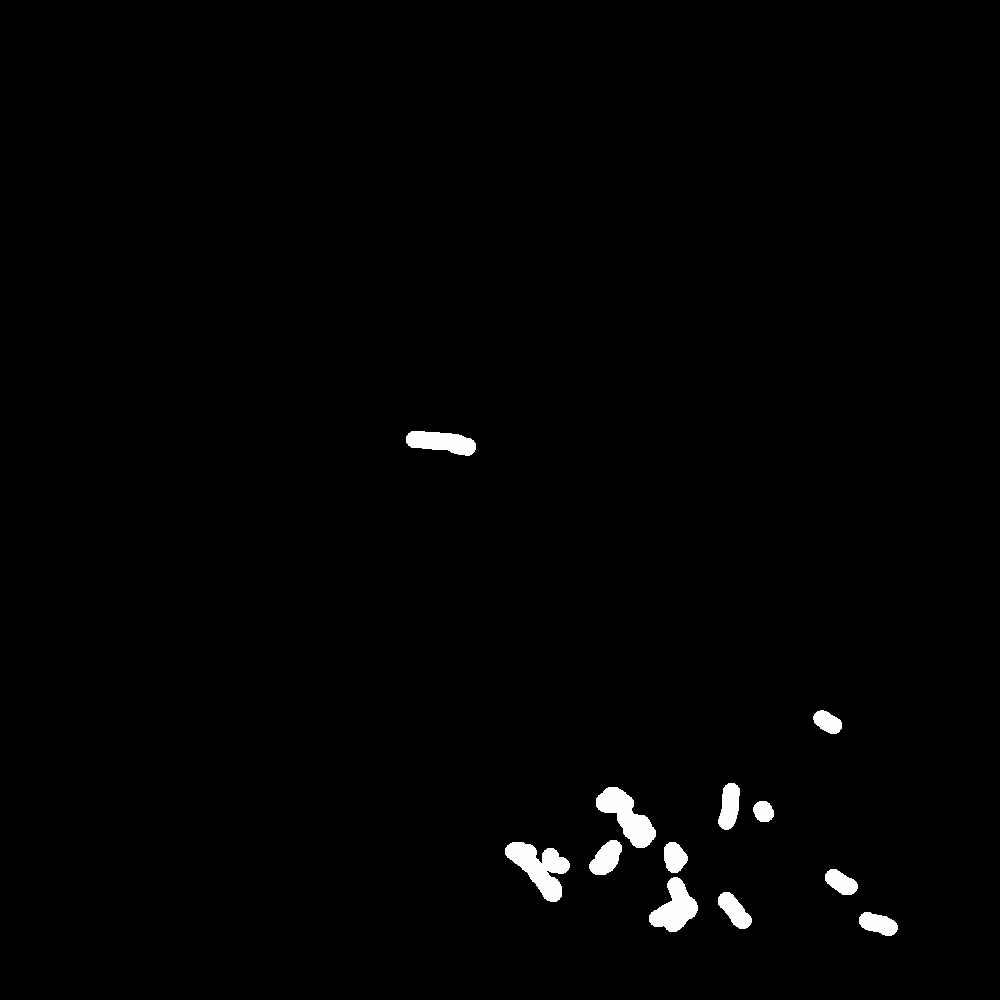illegal: (812, 713, 847, 728)
